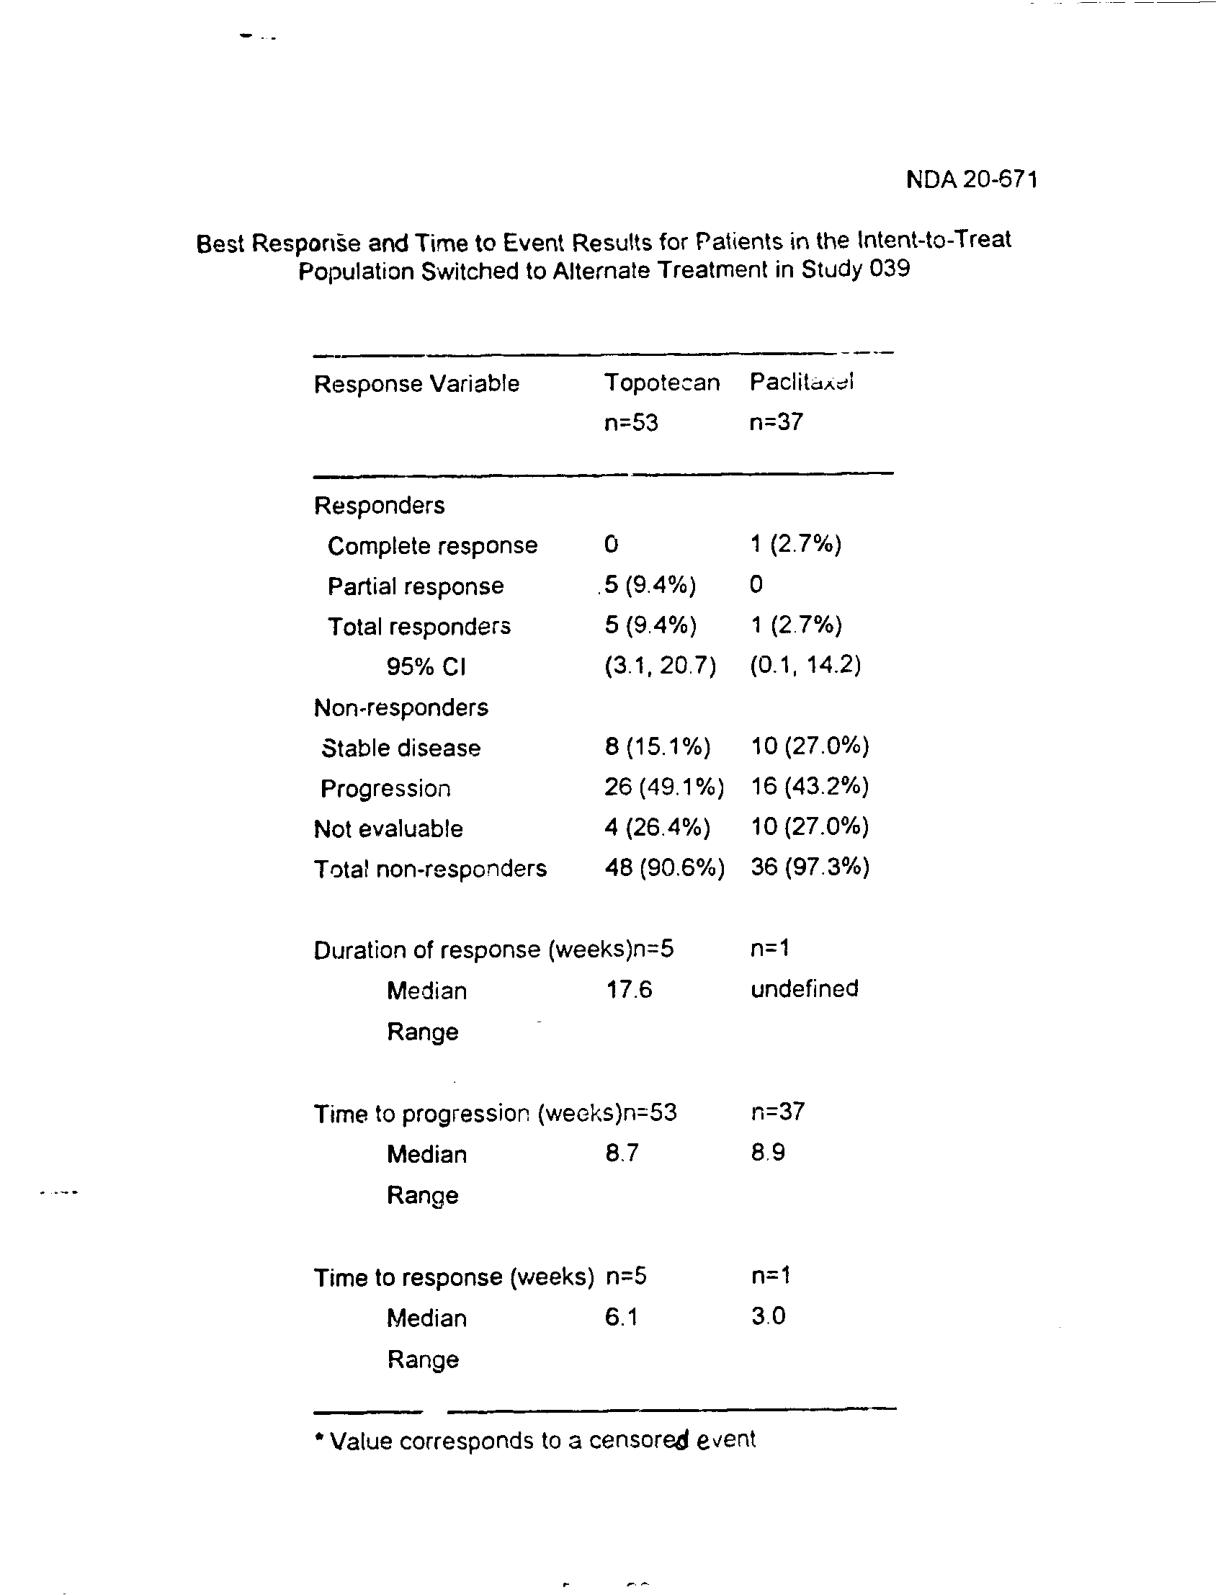partial_lined: (310, 351, 900, 1413)
